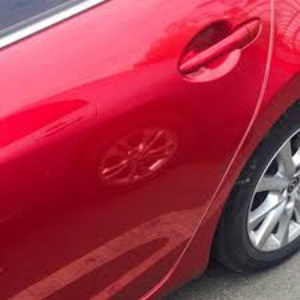door_scratch: (76, 106, 188, 198)
